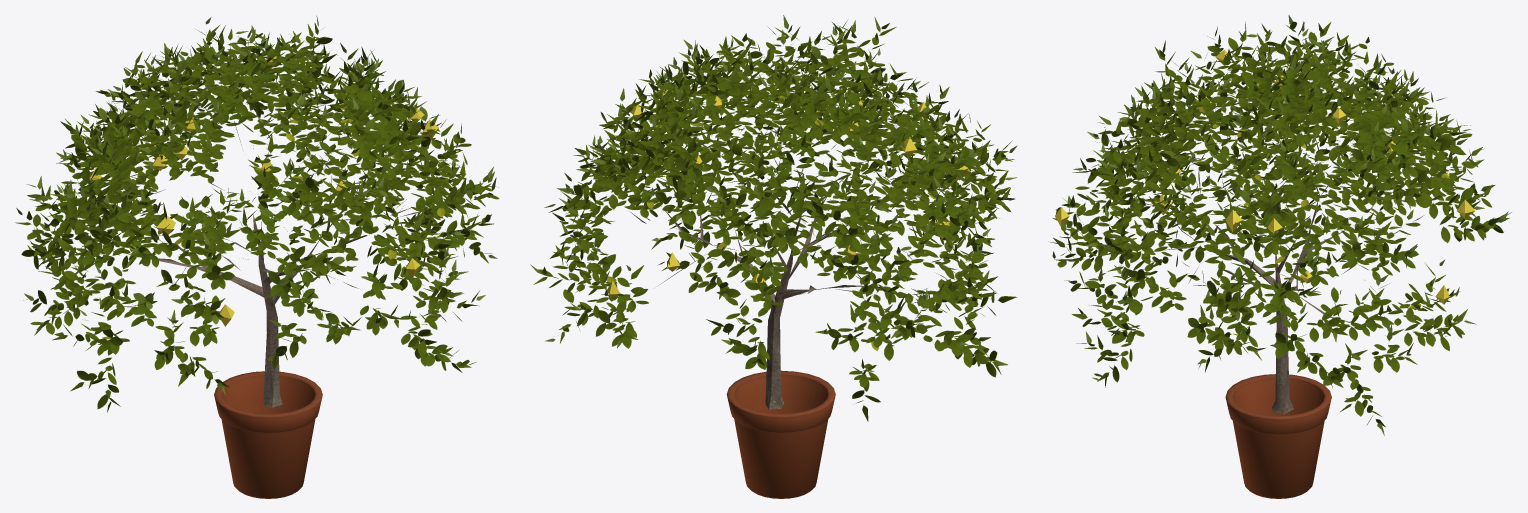
The model's file is limao-vaso.glb.
The picture shows the model from 3 angles, left to right: view 1: azimuth 30°, elevation 25°; view 2: azimuth 150°, elevation 25°; view 3: azimuth 270°, elevation 25°; orthographic projection. The views are drawn at different scales.
Parts seen in each view (by area): view 1: limao-arvore-test, terracotta-pot-test, LIMAO_FRUTO; view 2: limao-arvore-test, terracotta-pot-test, LIMAO_FRUTO; view 3: limao-arvore-test, terracotta-pot-test, LIMAO_FRUTO.
Boxes of the visible parts, bbox=[...] form: limao-arvore-test: bbox=[15, 15, 499, 412]; terracotta-pot-test: bbox=[214, 371, 322, 498]; LIMAO_FRUTO: bbox=[89, 56, 438, 326]; limao-arvore-test: bbox=[530, 15, 1017, 421]; terracotta-pot-test: bbox=[726, 370, 835, 498]; LIMAO_FRUTO: bbox=[604, 89, 969, 300]; limao-arvore-test: bbox=[1048, 15, 1511, 435]; terracotta-pot-test: bbox=[1225, 374, 1331, 498]; LIMAO_FRUTO: bbox=[1055, 49, 1475, 304].
Size of the model in its own units: 2.6 by 2.52 by 2.45.
Materials: 9 (8 with a texture image).
